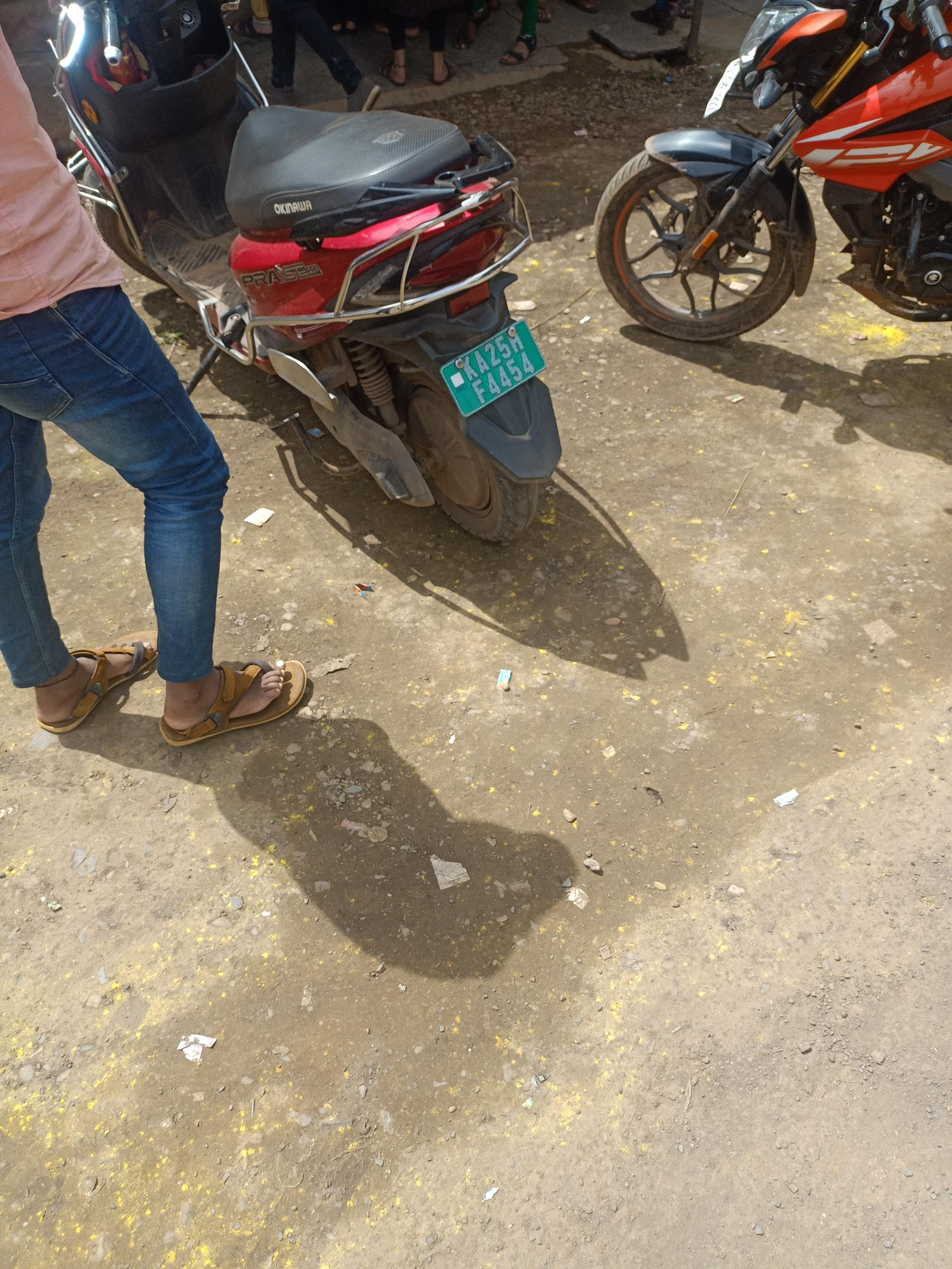green license plate: (433, 326, 552, 416)
